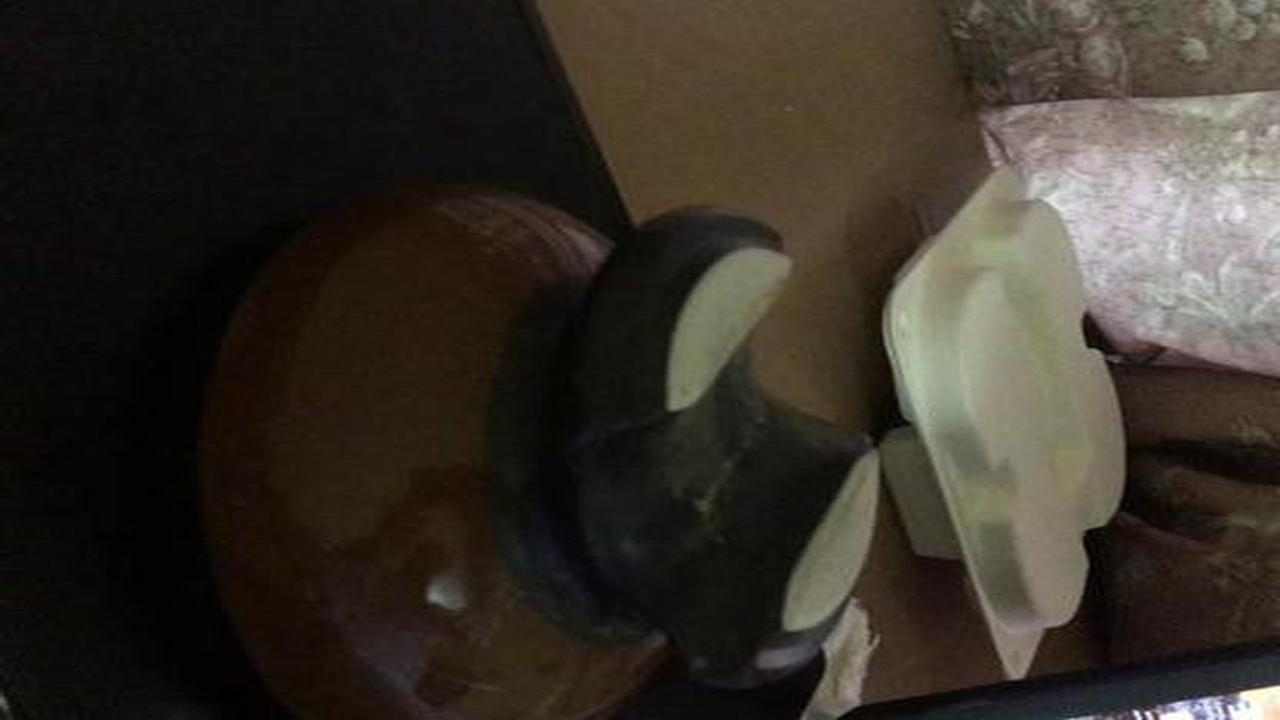insulator_pin: (159, 163, 911, 705)
